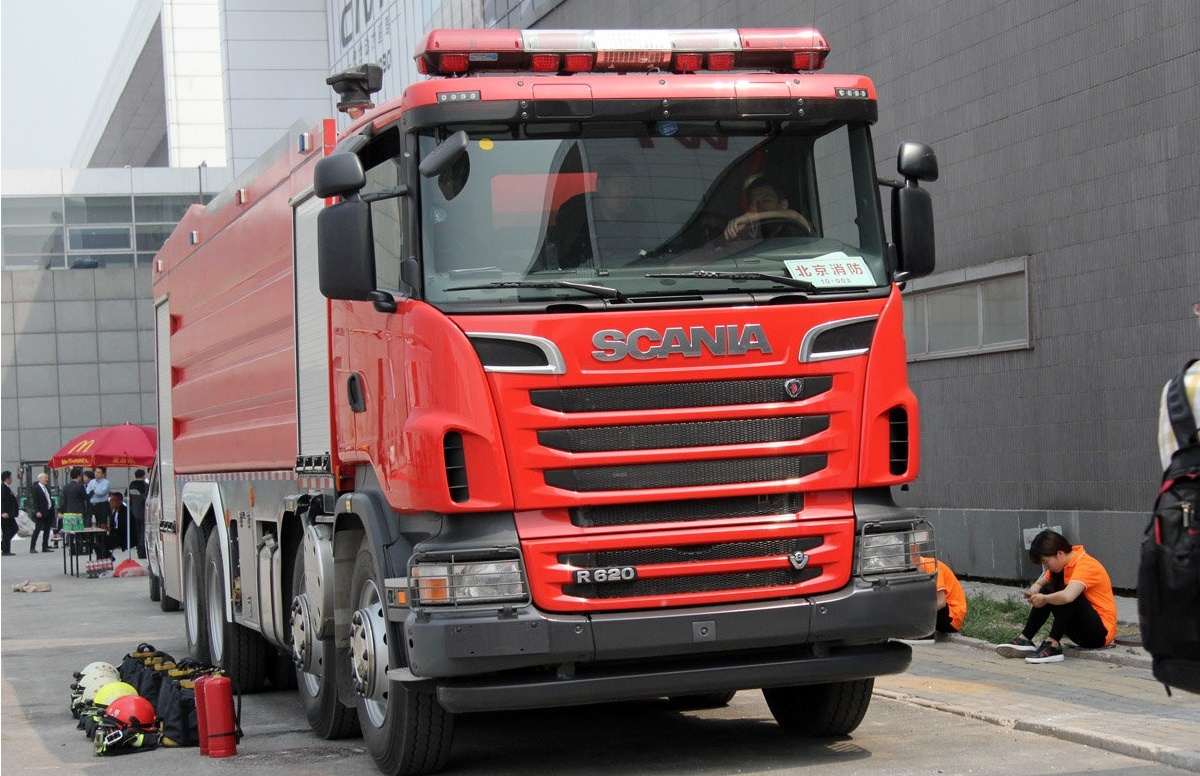fire engine: (122, 37, 971, 746)
